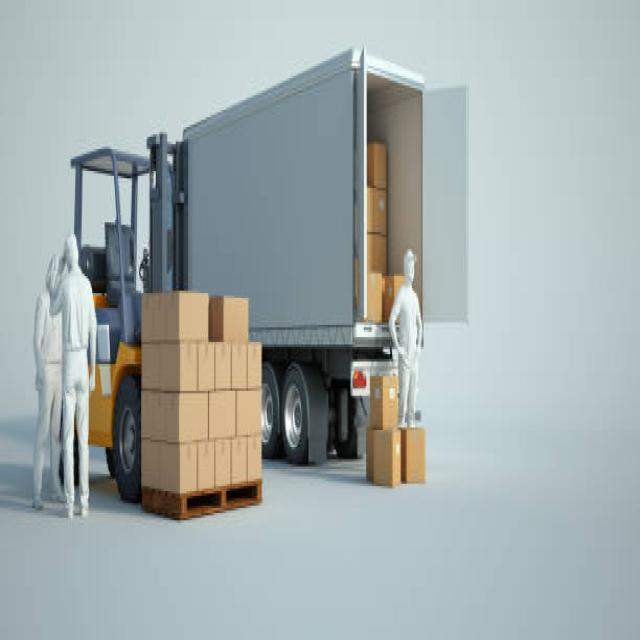Wooden-Pallets: (137, 476, 264, 527)
